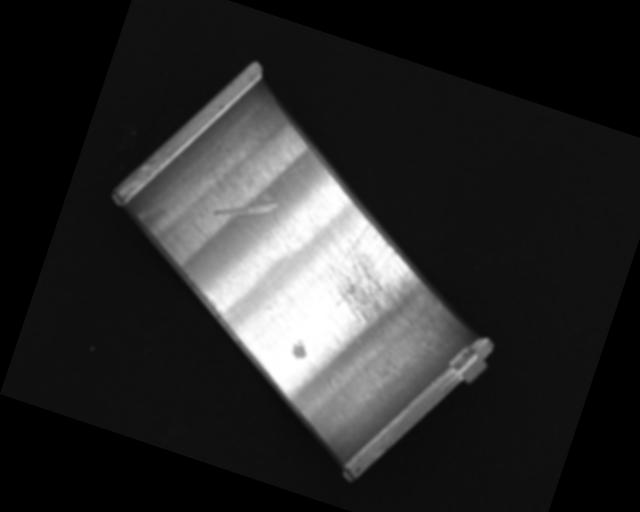bruise: (289, 337, 310, 362)
nick: (213, 179, 280, 234), (263, 156, 307, 234)
scratch: (311, 212, 456, 345)
